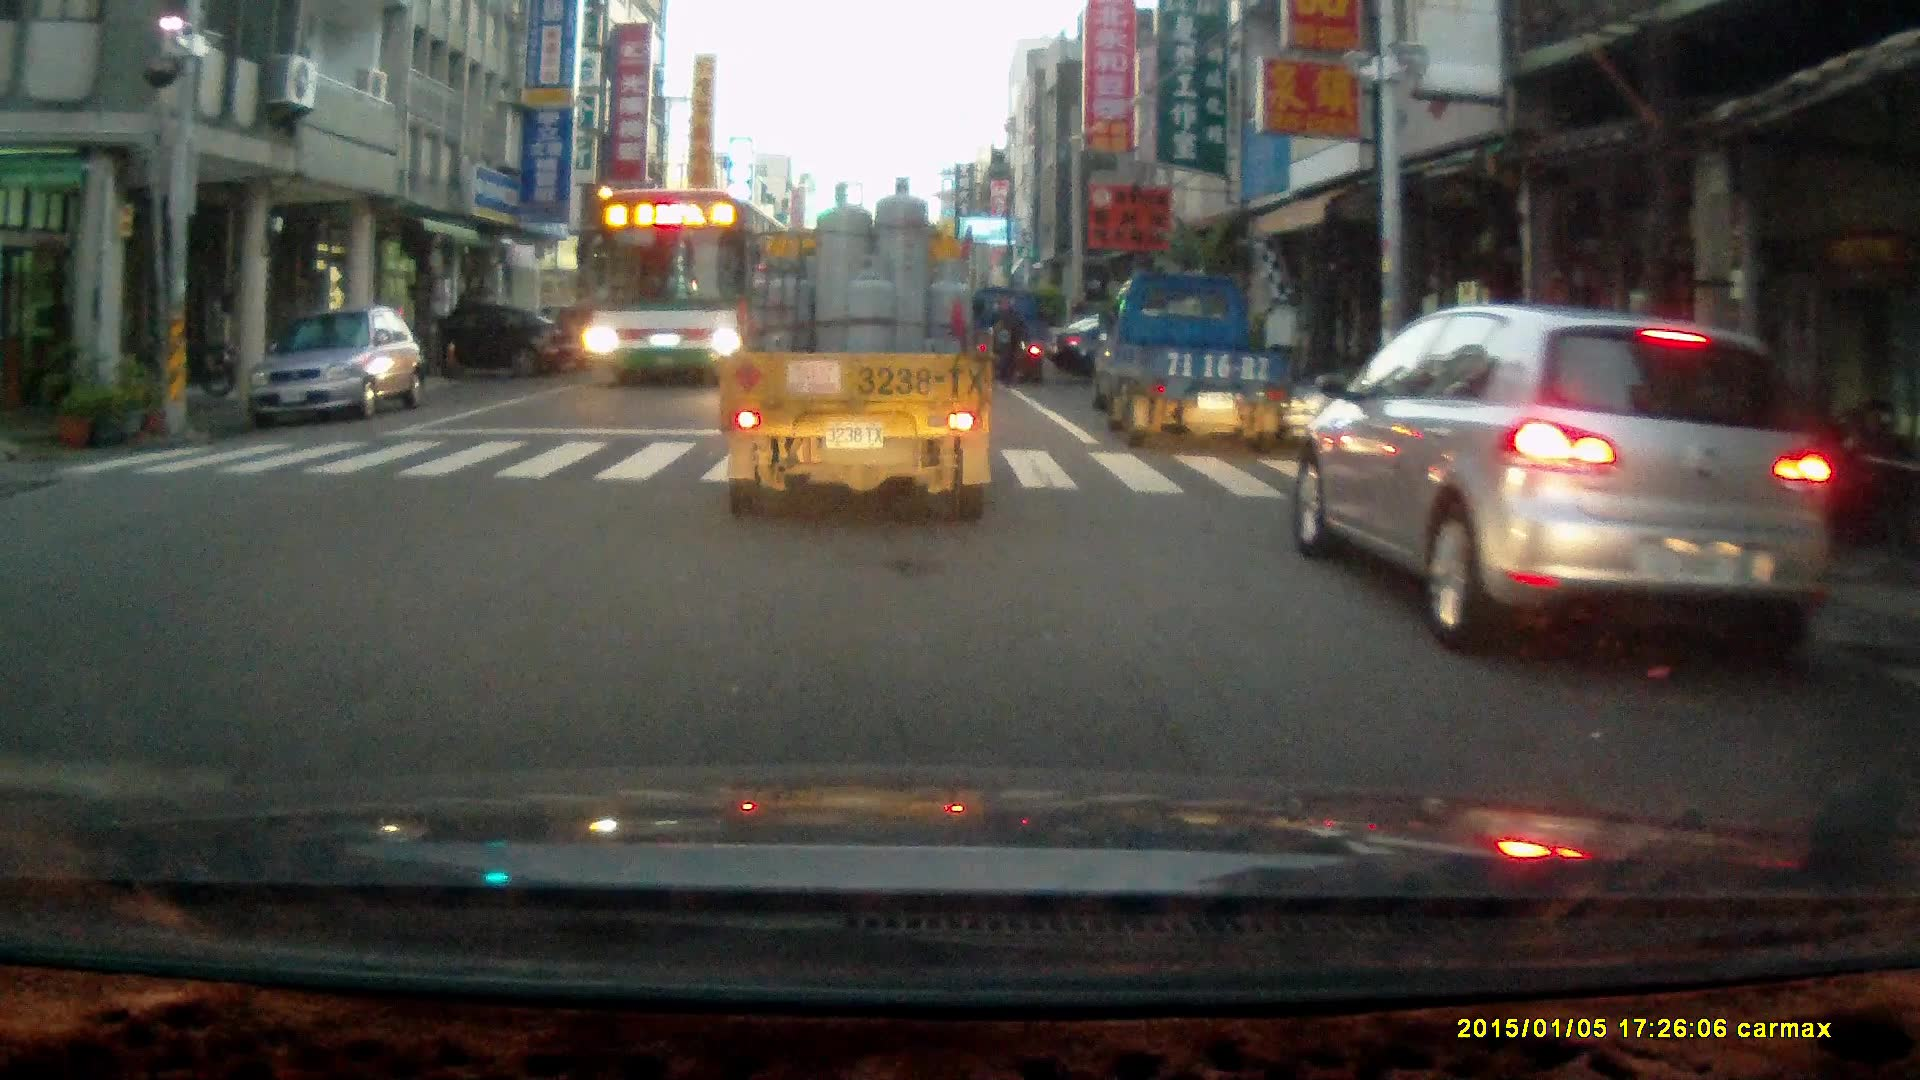pedestrian: (992, 288, 1032, 382)
vehicle: (1293, 297, 1828, 655), (724, 171, 997, 525), (577, 184, 779, 385), (1089, 263, 1289, 444), (240, 300, 427, 424), (397, 297, 576, 375), (556, 293, 656, 365)
